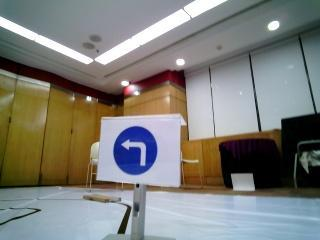left: (102, 117, 174, 181)
